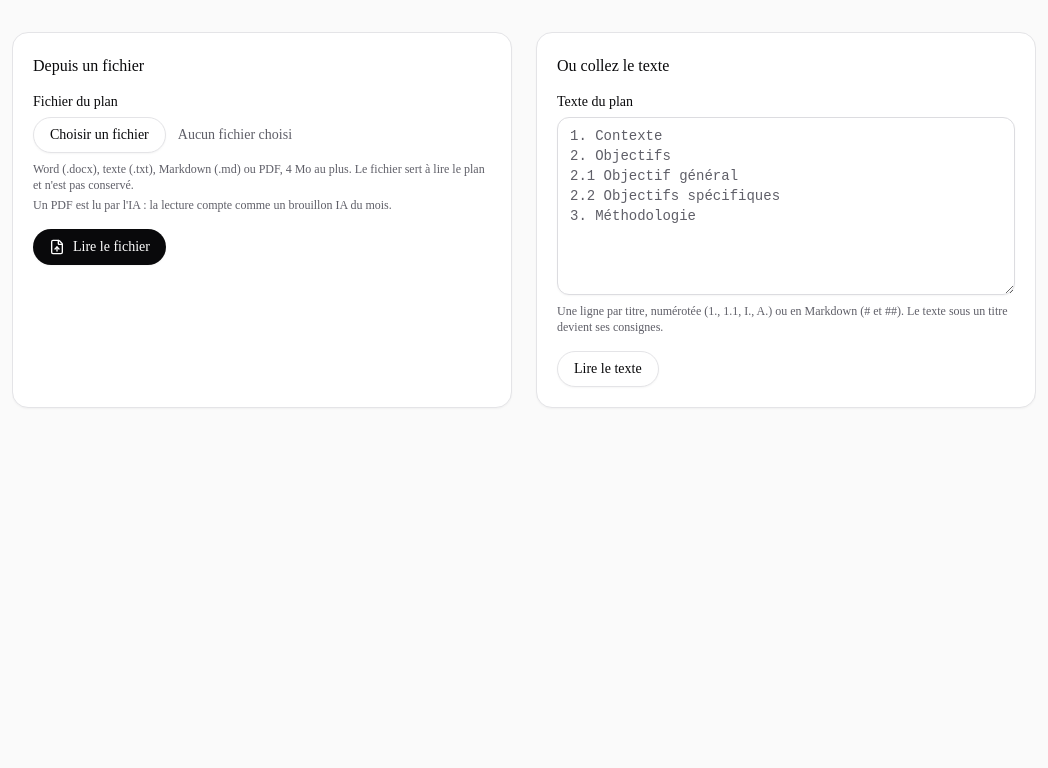
Test: PlanImport, reading › sends pasted text as JSON and shows the plan it gets back
Replace the text in the text box labelled "Texte du plan" with "1. Contexte". click: x=786, y=206
box: x1=557 y1=117 x2=1015 y2=295
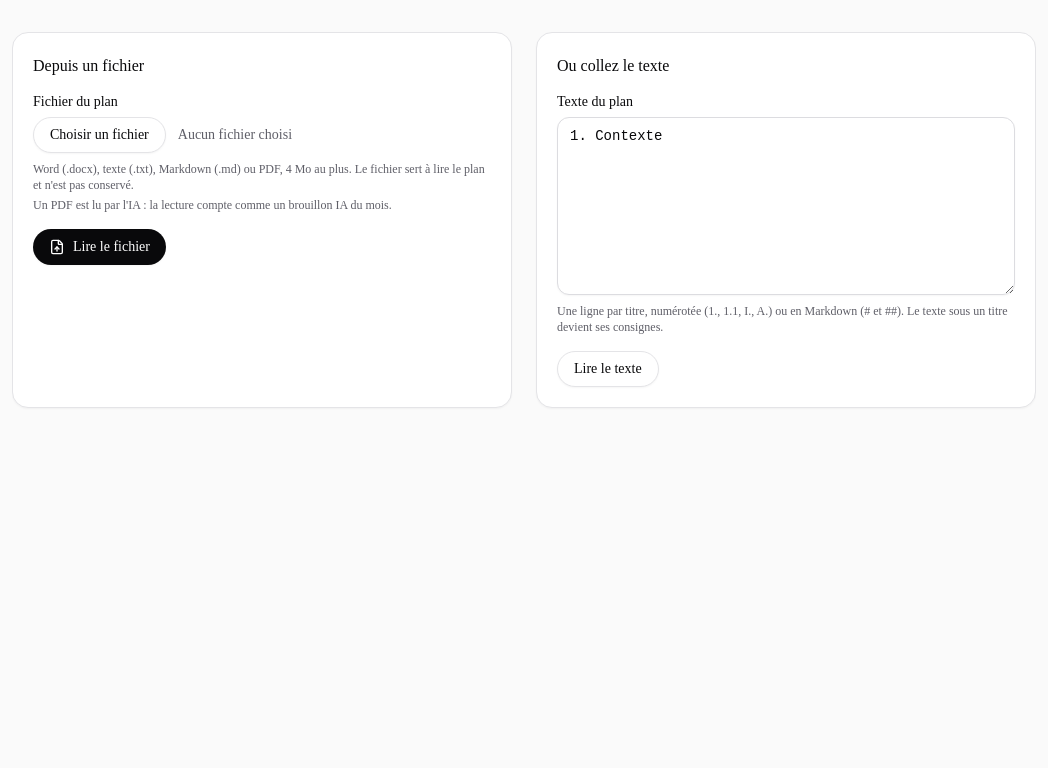
Click the button "Lire le texte". click: x=608, y=369
box: x1=557 y1=351 x2=659 y2=387
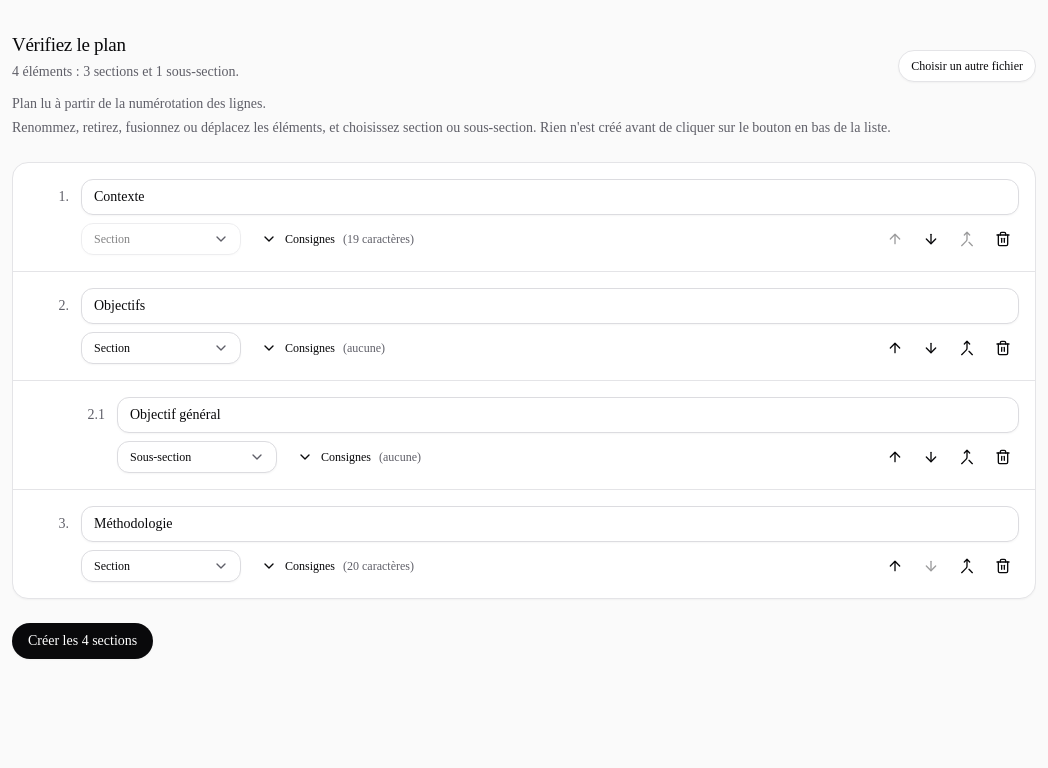
Check: the text "4 éléments : 3 sections et 1 sous-section." is shown, box x1=12 y1=62 x2=239 y2=82
Check: the text "Plan lu à partir de la numérotation des lignes." is shown, box x1=12 y1=96 x2=266 y2=111
Check: the field named "Titre de l'élément 2.1" next to "2.1" is shown, box x1=117 y1=397 x2=1019 y2=433
